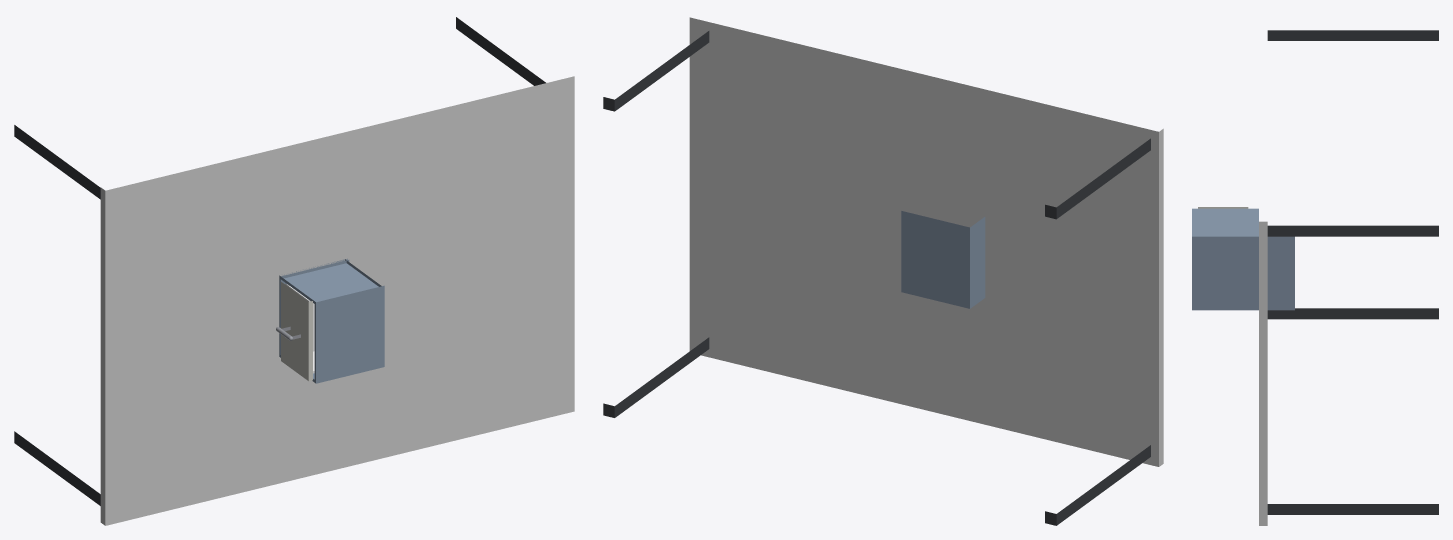
The picture shows the model from 3 angles, left to right: view 1: azimuth 30°, elevation 25°; view 2: azimuth 150°, elevation 25°; view 3: azimuth 270°, elevation 25°; orthographic projection. The views are drawn at different scales.
Visible parts, largest first — view 1: s0, s1, s2; view 2: s0, s1; view 3: s0, s1.
Boxes of the visible parts, x1=… form: s0: x1=14, y1=17, x2=574, y2=525; s1: x1=279, y1=258, x2=384, y2=383; s2: x1=276, y1=282, x2=314, y2=381; s0: x1=603, y1=17, x2=1163, y2=525; s1: x1=901, y1=211, x2=985, y2=308; s0: x1=1259, y1=30, x2=1438, y2=525; s1: x1=1192, y1=208, x2=1294, y2=310.
Size of the model in its own units: 2.05 by 1.4 by 1.03.
